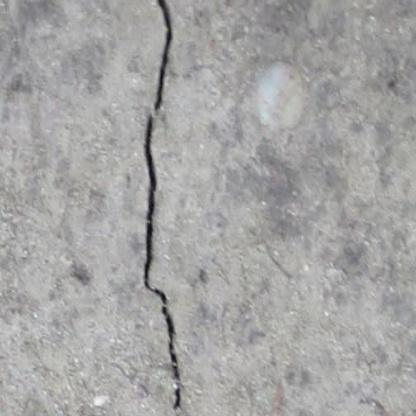Cracks: (139, 0, 186, 416)
